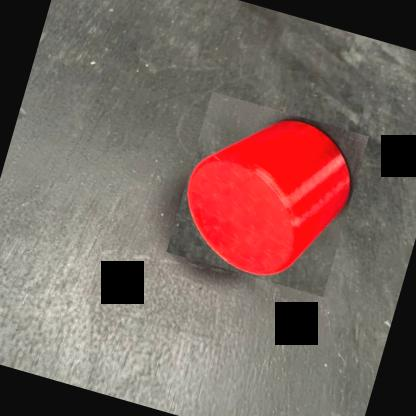red cylinder: (166, 92, 369, 297)
